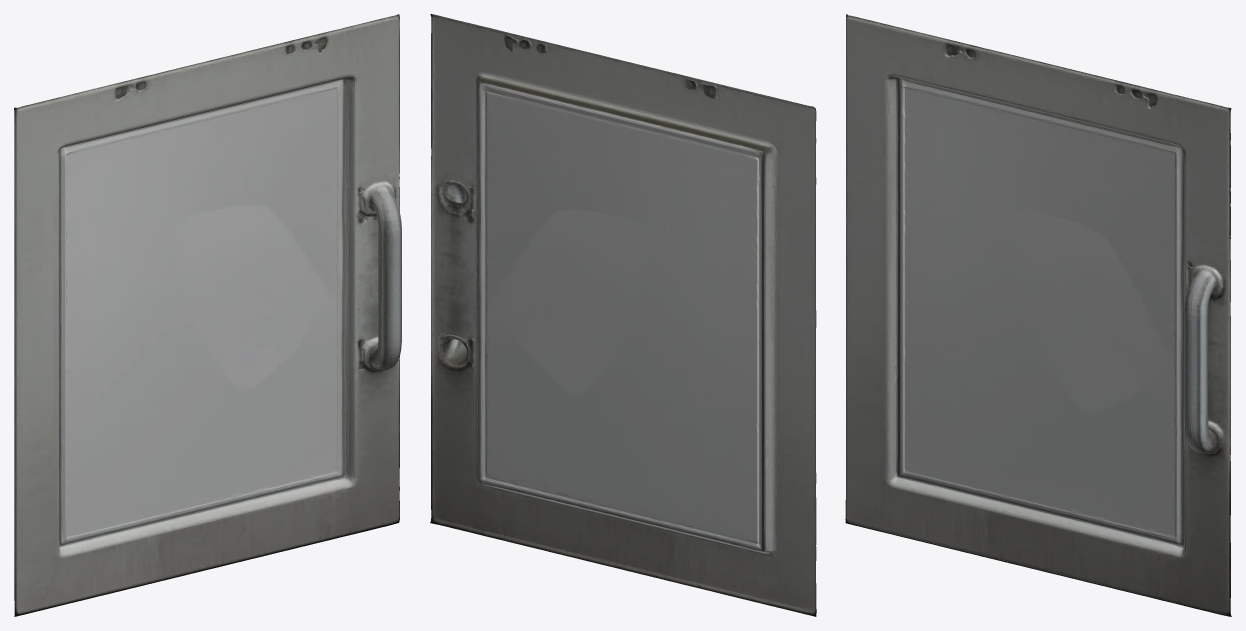
The model's file is door.glb.
3 views of the same model, side by side, from view 1: azimuth 30°, elevation 25°; view 2: azimuth 150°, elevation 25°; view 3: azimuth 330°, elevation 25° (orthographic).
Parts seen in each view (by area): view 1: source_surface_0; view 2: source_surface_0; view 3: source_surface_0.
Part boxes in pixels (x1,y1,x2,y2): source_surface_0: [14, 14, 401, 616]; source_surface_0: [430, 14, 816, 616]; source_surface_0: [845, 14, 1231, 616].
Size of the model in its own units: 0.579 by 0.7309 by 0.06.
Materials: 1 (1 with a texture image).
